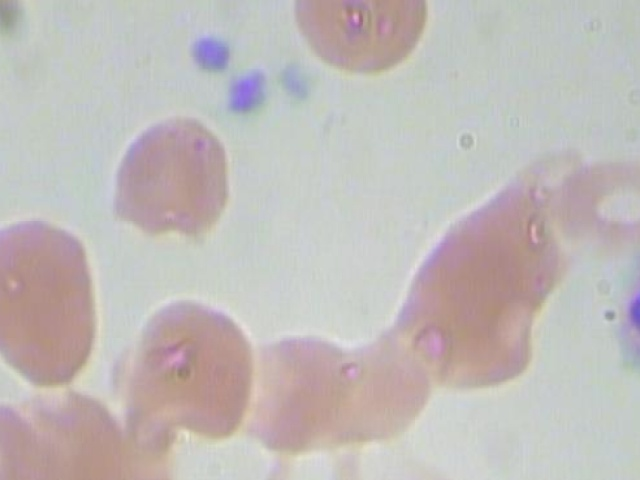Platelets: (186, 22, 241, 81), (225, 67, 271, 123), (273, 53, 319, 109)
RBC: (118, 271, 271, 448), (0, 211, 111, 388), (101, 107, 233, 249), (239, 329, 360, 456), (282, 0, 432, 80), (544, 143, 640, 249), (250, 426, 370, 480), (0, 388, 47, 480), (580, 468, 640, 480)
WBC: (614, 219, 640, 407)
